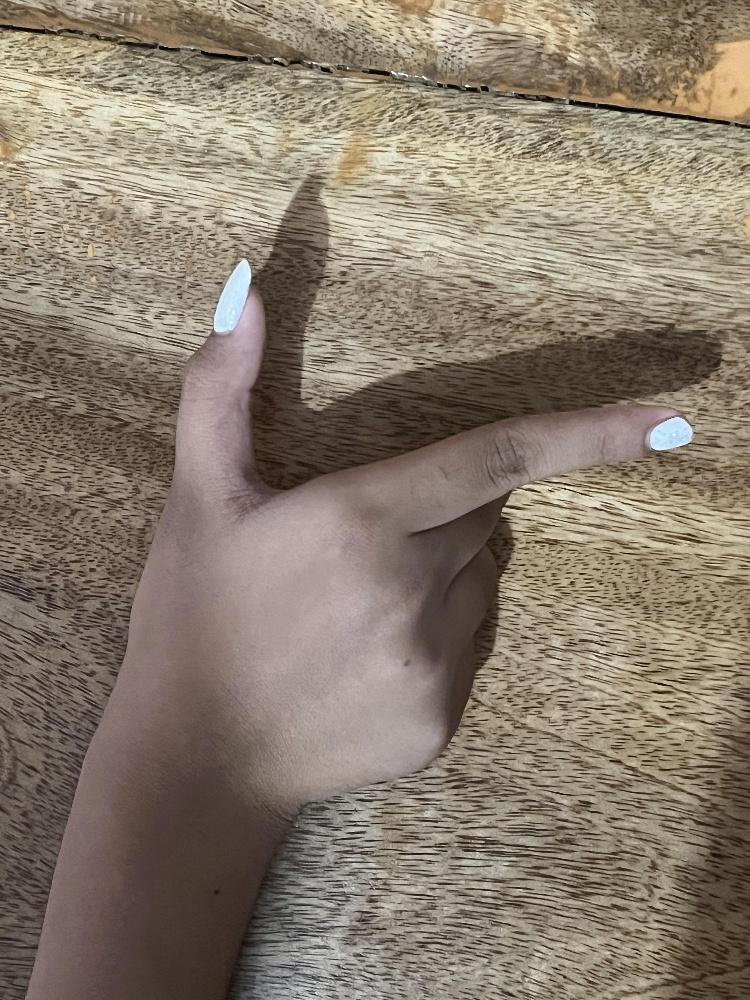g: (126, 257, 691, 802)
